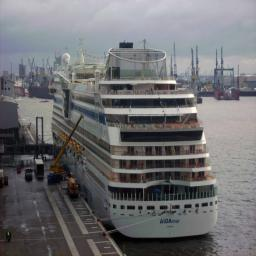cruises: (52, 42, 220, 242)
